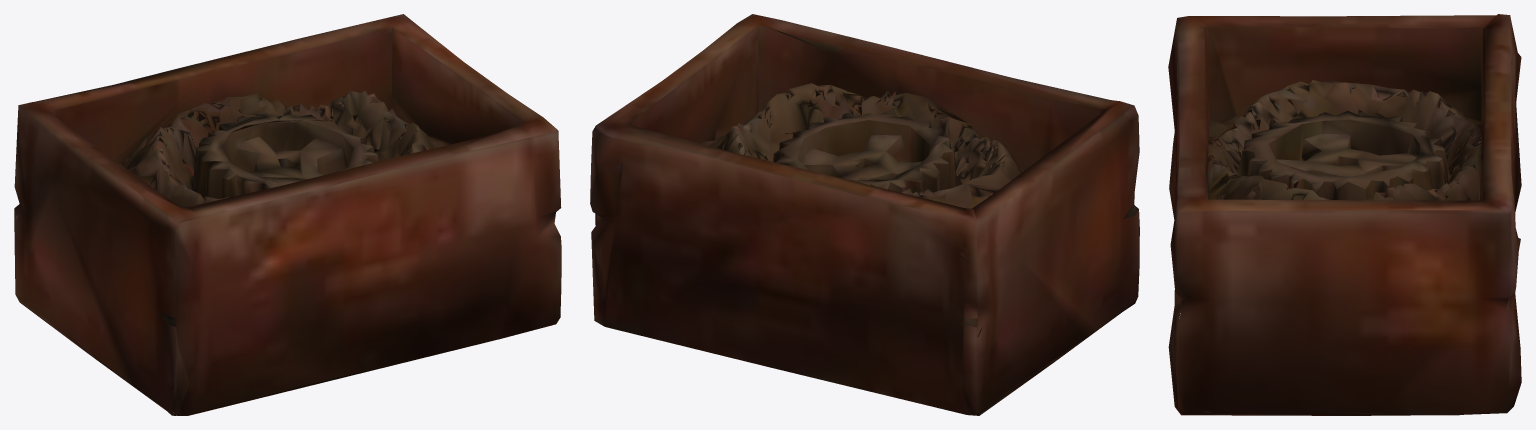
The model's file is caja_moldeo.movil.glb.
The picture shows the model from 3 angles, left to right: view 1: azimuth 30°, elevation 25°; view 2: azimuth 150°, elevation 25°; view 3: azimuth 270°, elevation 25°; orthographic projection. The views are drawn at different scales.
Visible parts, largest first — view 1: geometry_0; view 2: geometry_0; view 3: geometry_0.
Boxes of the visible parts, x1,y1,x2,y2 form: geometry_0: [14, 14, 561, 415]; geometry_0: [590, 14, 1139, 415]; geometry_0: [1168, 14, 1521, 415].
Size of the model in its own units: 0.598 by 0.3002 by 0.4497.
1 material, 1 textured.
